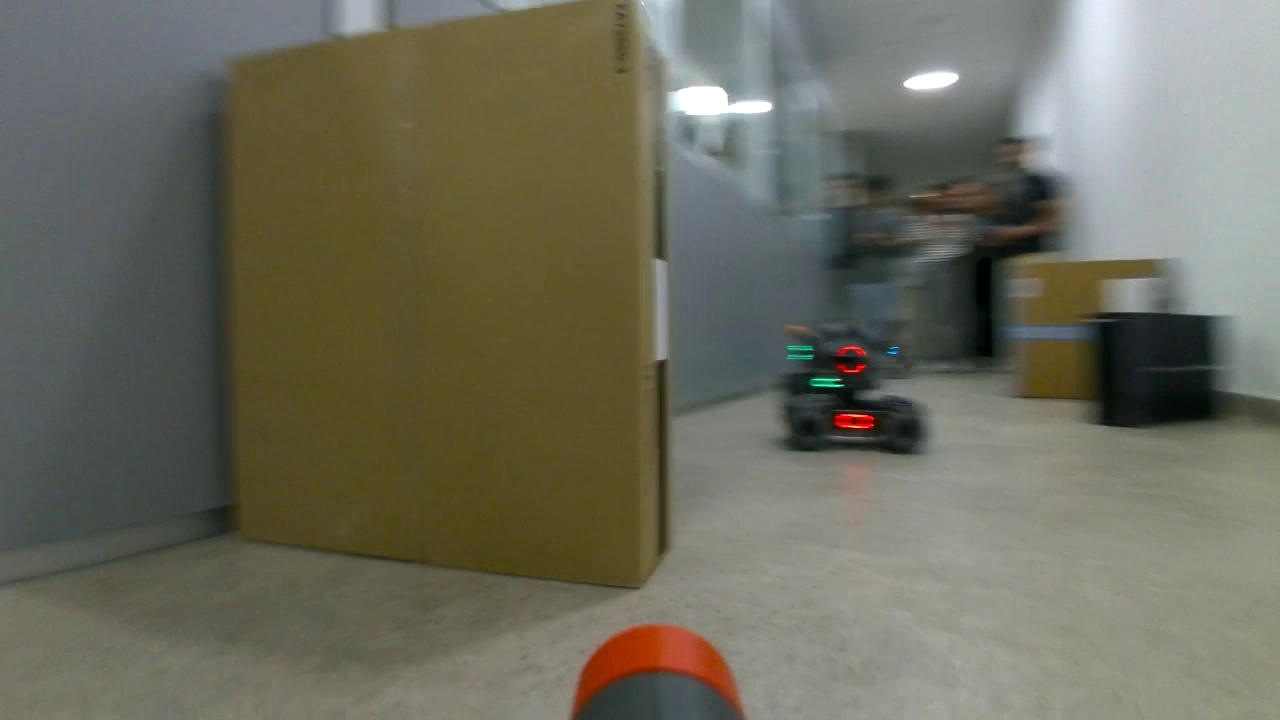robot: (782, 321, 921, 451)
